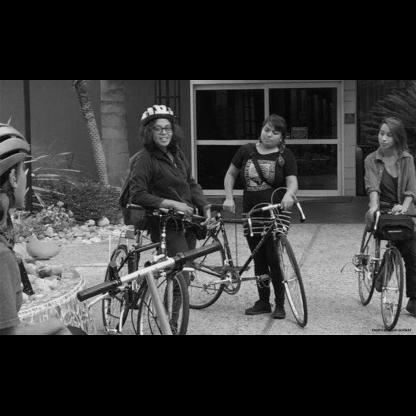Bicycle: (180, 187, 321, 333), (70, 187, 202, 339), (336, 187, 415, 331)
